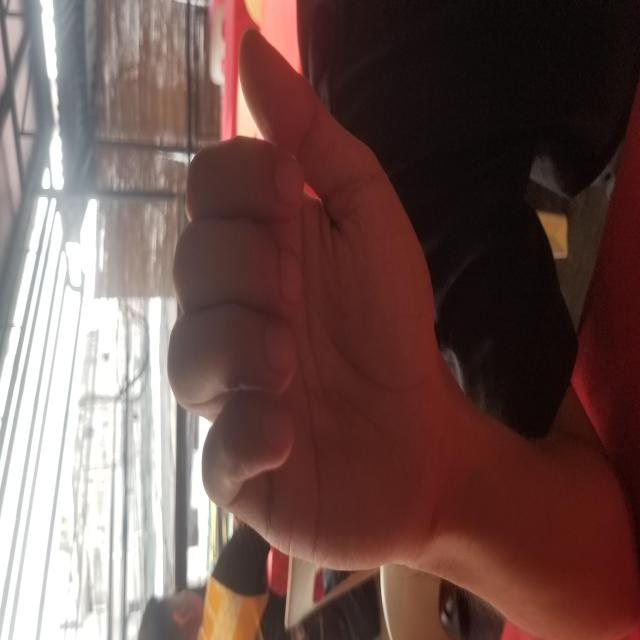E: (61, 167, 617, 450)
